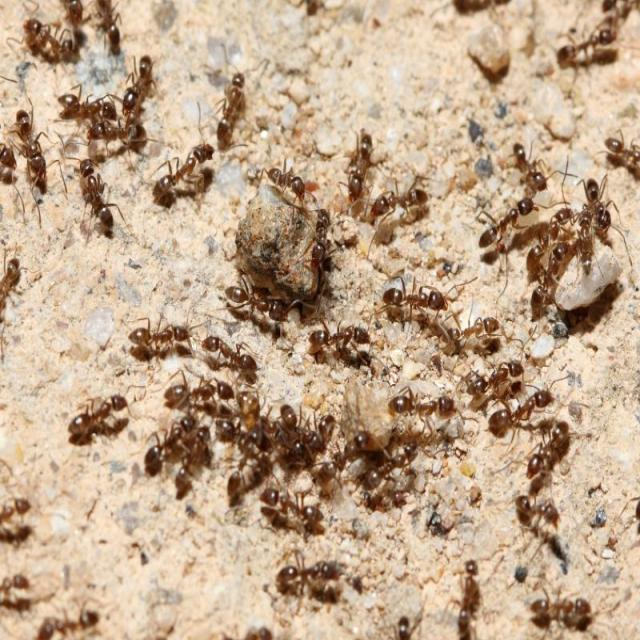ants: (7, 106, 60, 194), (254, 482, 333, 538), (474, 193, 546, 251), (523, 242, 574, 322), (153, 141, 212, 210), (68, 383, 135, 441), (489, 384, 556, 442), (140, 414, 198, 476), (75, 159, 121, 237), (205, 326, 261, 390), (462, 351, 528, 405), (368, 176, 437, 226), (167, 428, 216, 496), (215, 62, 254, 147), (342, 124, 383, 198), (252, 156, 310, 208), (158, 373, 238, 409), (439, 307, 503, 352), (115, 58, 161, 120), (127, 314, 197, 354), (58, 81, 117, 128), (310, 319, 375, 359), (383, 276, 448, 314), (577, 177, 618, 236), (506, 138, 547, 189), (92, 1, 132, 53)
